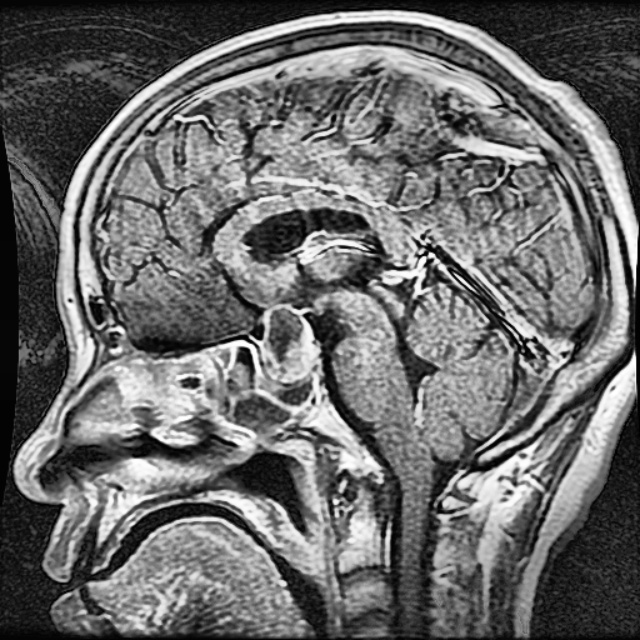Pituitary: (262, 302, 318, 382)
